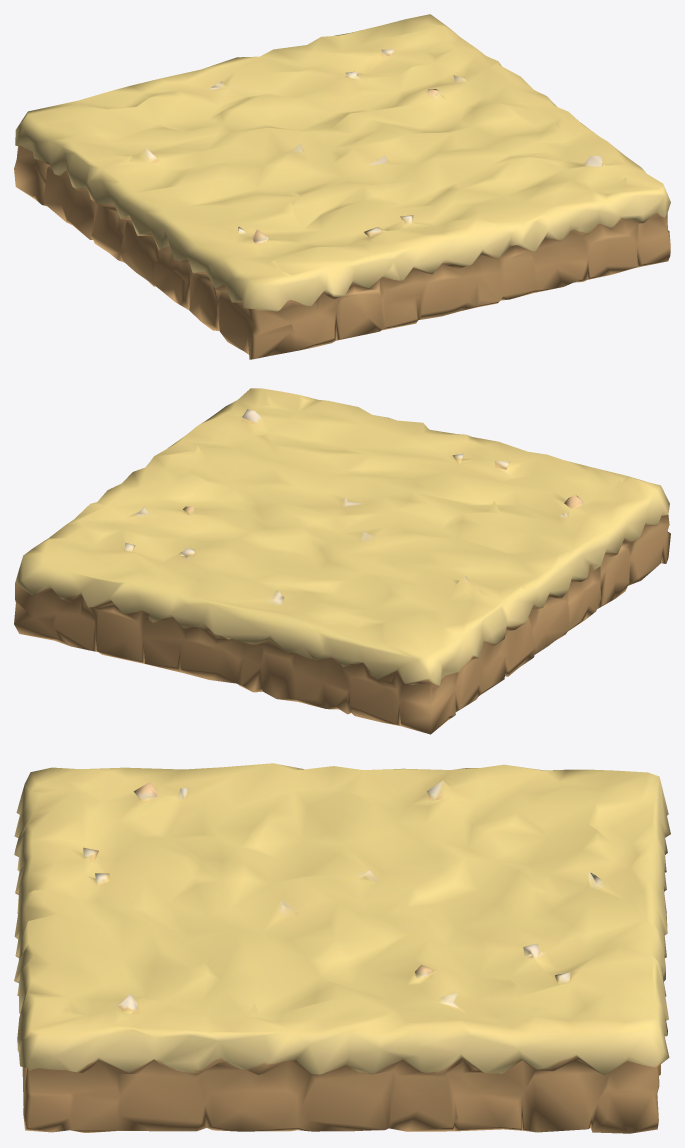
File: sand_tile.glb
3 renders of one model, top to bottom at view 1: azimuth 30°, elevation 25°; view 2: azimuth 150°, elevation 25°; view 3: azimuth 270°, elevation 25°, orthographic. The views are drawn at different scales.
Visible parts, largest first — view 1: tripo_node_e29d5098-a06a-4684-ba1b-aeb308cbde1b; view 2: tripo_node_e29d5098-a06a-4684-ba1b-aeb308cbde1b; view 3: tripo_node_e29d5098-a06a-4684-ba1b-aeb308cbde1b.
Boxes of the visible parts, box(x1,y1,x2,y2) form: tripo_node_e29d5098-a06a-4684-ba1b-aeb308cbde1b: box(14, 14, 670, 359); tripo_node_e29d5098-a06a-4684-ba1b-aeb308cbde1b: box(14, 388, 670, 734); tripo_node_e29d5098-a06a-4684-ba1b-aeb308cbde1b: box(14, 763, 670, 1133).
Size of the model in its own units: 0.9983 by 0.1991 by 1.
1 material, 1 textured.
